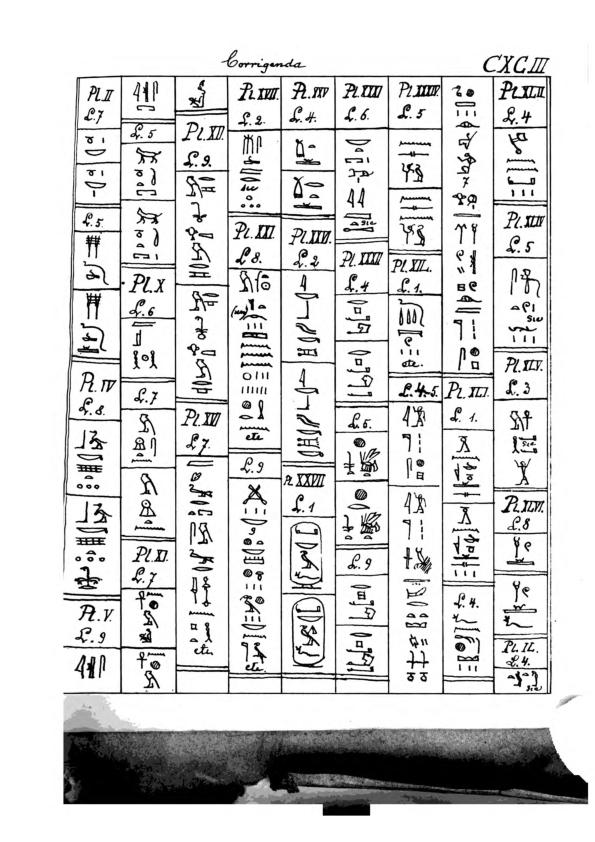circle: (289, 596, 328, 670), (288, 521, 324, 591)
